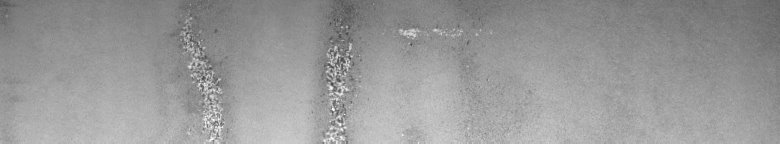hc: (318, 4, 482, 136)
